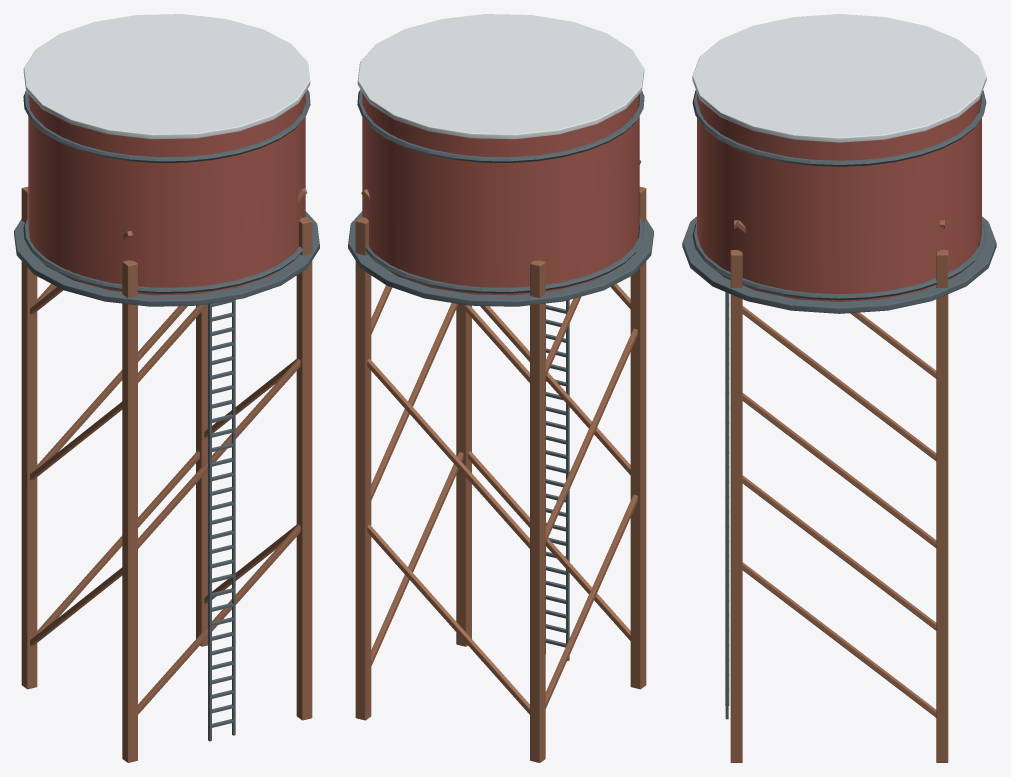
The model's file is water_tower.glb.
3 views of the same model, side by side, from view 1: azimuth 30°, elevation 25°; view 2: azimuth 150°, elevation 25°; view 3: azimuth 270°, elevation 25° (orthographic). The views are drawn at different scales.
Visible parts, largest first — view 1: water_tower; view 2: water_tower; view 3: water_tower.
Boxes of the visible parts, left/top/right/bottom form: water_tower: left=14, top=14, right=319, bottom=762; water_tower: left=348, top=14, right=653, bottom=762; water_tower: left=682, top=14, right=996, bottom=762.
Bounding box in the file's own units: 6.72 × 15.14 × 6.72.
